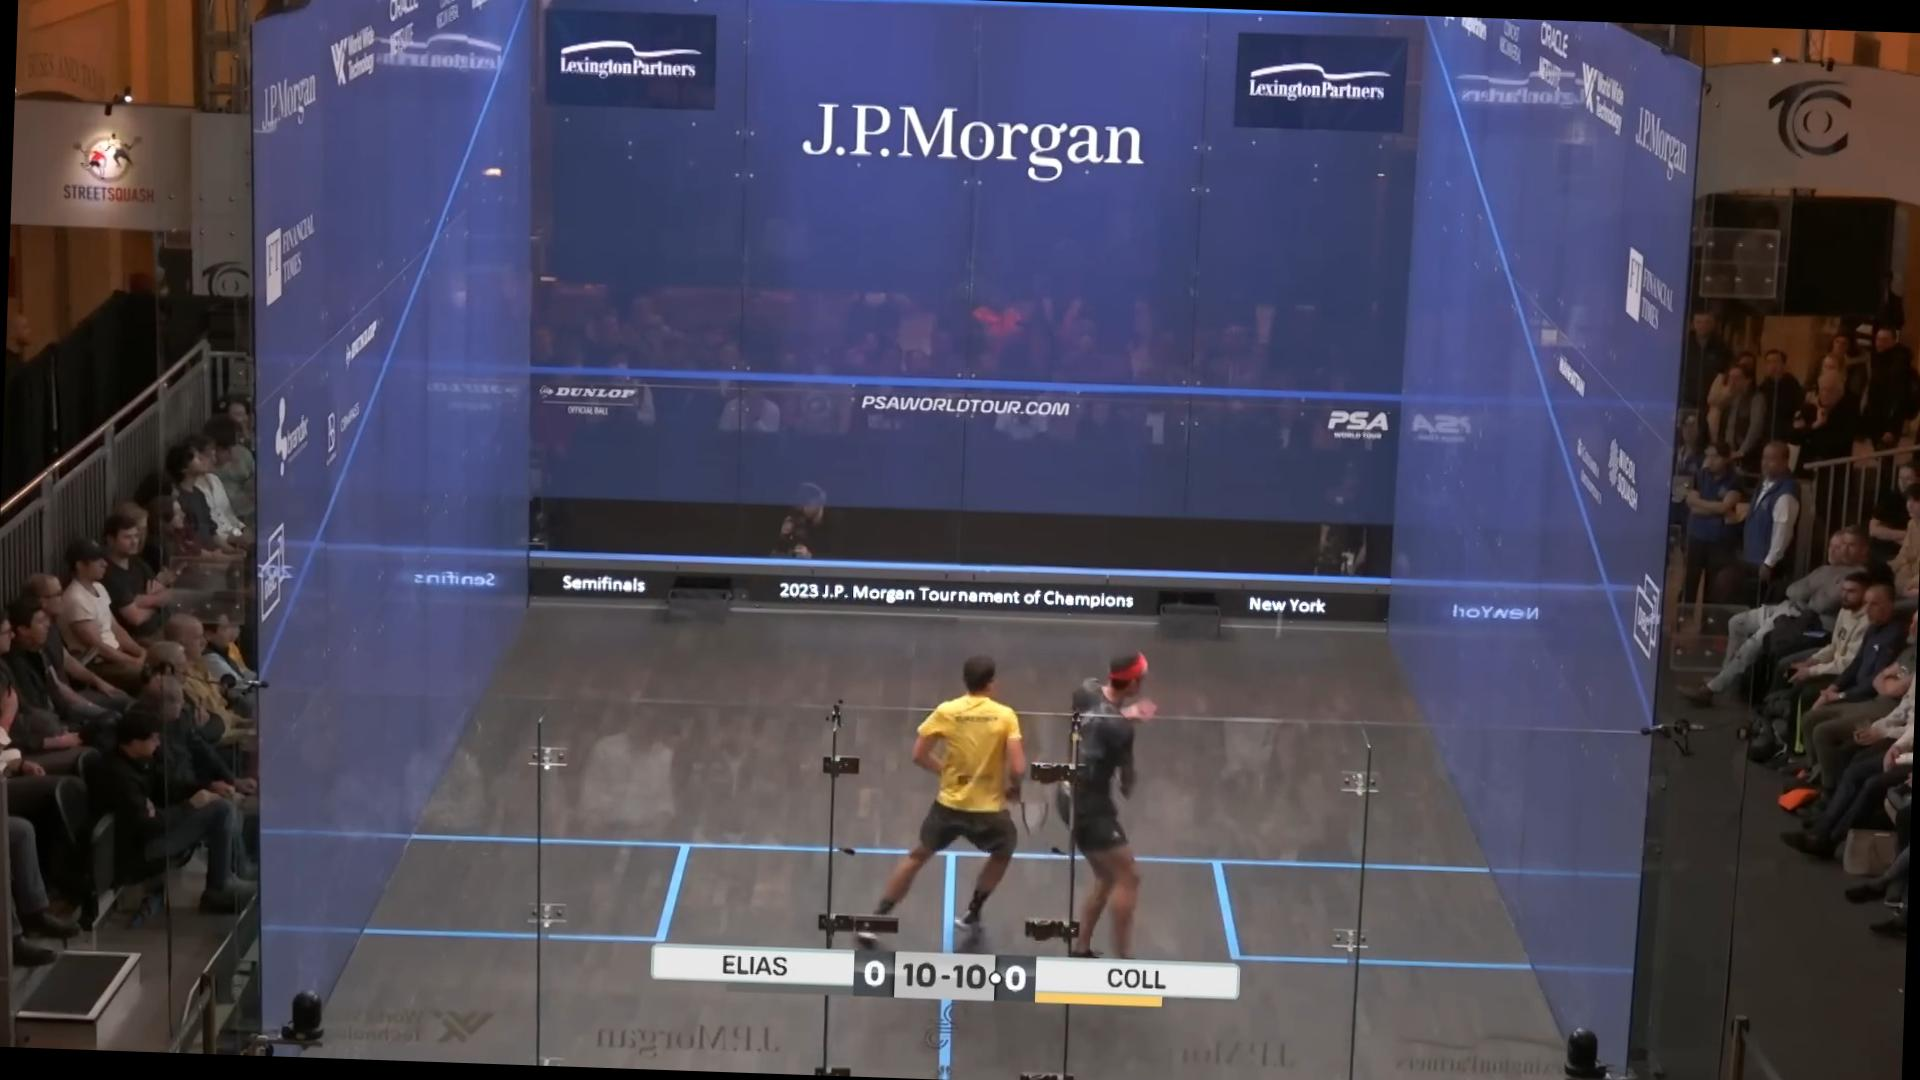Racket: (1010, 793, 1064, 847)
